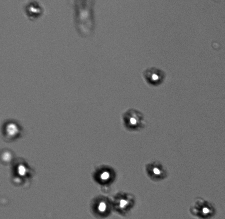Living Cell: (144, 65, 167, 87), (92, 165, 117, 185), (122, 108, 144, 130), (114, 191, 136, 212), (1, 119, 22, 140), (192, 197, 215, 216), (91, 195, 111, 216), (12, 160, 32, 180), (146, 161, 166, 181), (25, 1, 43, 18)
